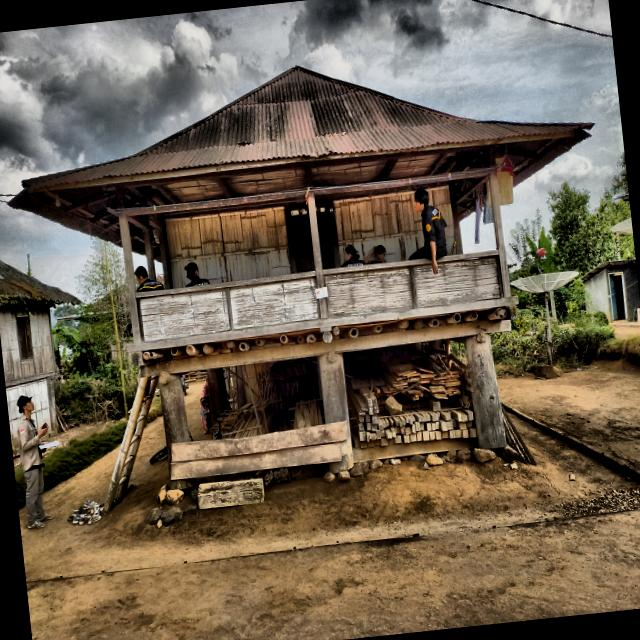column: (464, 332, 506, 448), (157, 370, 196, 490), (318, 352, 354, 472), (46, 375, 58, 435)
door: (290, 201, 335, 273)
ornamen: (139, 287, 230, 341), (229, 276, 318, 329), (413, 256, 501, 308), (324, 268, 413, 316)
roof: (7, 66, 592, 247), (0, 259, 80, 304)
stair: (100, 375, 159, 515)
wall: (164, 205, 292, 287), (333, 191, 424, 266), (0, 304, 55, 382), (5, 377, 52, 450)
window: (16, 317, 33, 358)
